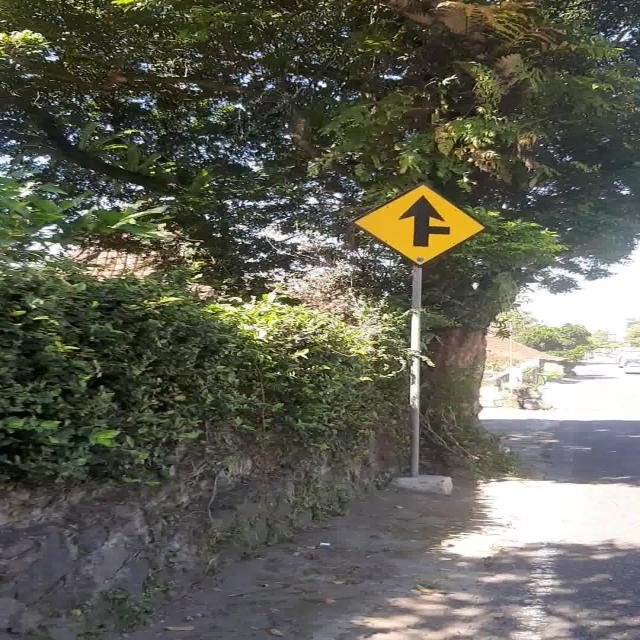Persimpangan 3 Prioritas Kanan: (351, 182, 487, 266)
